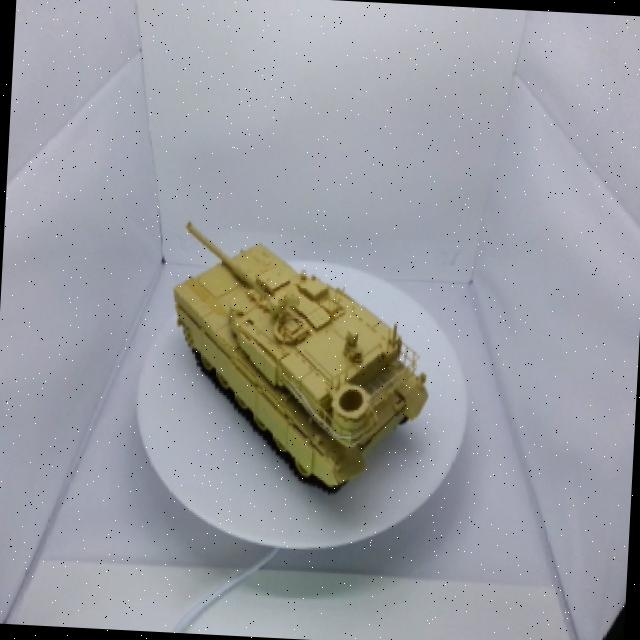korea tank: (134, 190, 446, 511)
